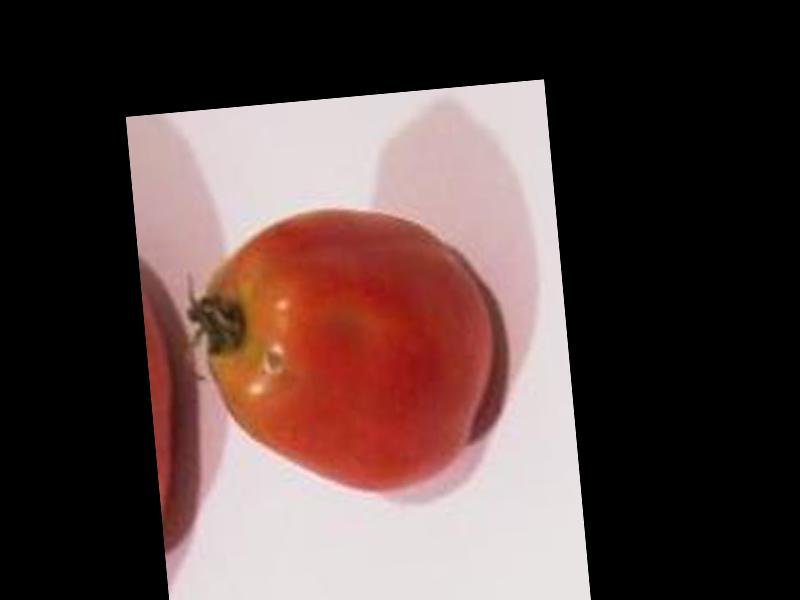Tomato: (191, 198, 499, 505)
